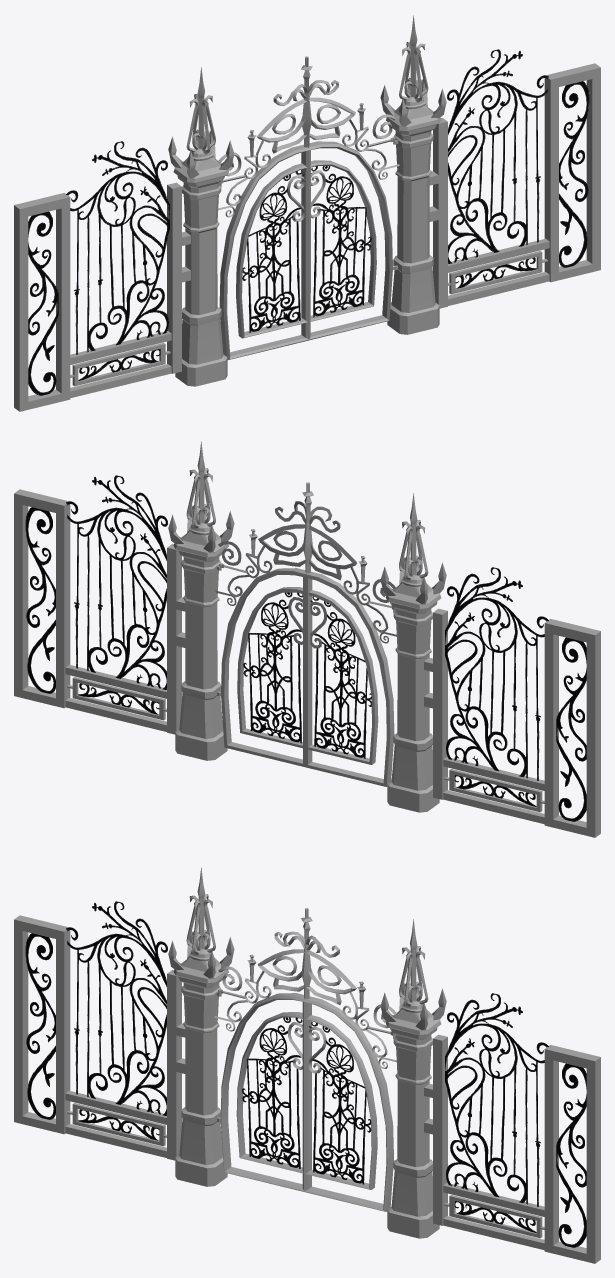
Rendered from Gate.fbx.
The picture shows the model from 3 angles, top to bottom: view 1: azimuth 30°, elevation 25°; view 2: azimuth 150°, elevation 25°; view 3: azimuth 330°, elevation 25°; orthographic projection.
Visible parts, largest first — view 1: Gate_Half, textures, Left_Gate, Right_Gate, right, left; view 2: Gate_Half, textures, Left_Gate, Right_Gate, right, left; view 3: Gate_Half, textures, Right_Gate, Left_Gate, right, left.
Part boxes in pixels (x1,y1,x2,y2): Gate_Half: [14, 15, 600, 411]; textures: [28, 49, 589, 395]; Left_Gate: [218, 56, 310, 359]; Right_Gate: [306, 56, 399, 340]; right: [311, 166, 371, 317]; left: [242, 170, 304, 332]; Gate_Half: [14, 441, 600, 837]; textures: [25, 475, 586, 821]; Left_Gate: [304, 482, 396, 786]; Right_Gate: [215, 482, 308, 767]; right: [243, 592, 302, 743]; left: [310, 596, 371, 758]; Gate_Half: [14, 867, 600, 1263]; textures: [25, 901, 586, 1247]; Right_Gate: [303, 908, 396, 1211]; Left_Gate: [214, 908, 307, 1191]; right: [309, 1022, 371, 1184]; left: [242, 1017, 302, 1168].
Bounding box in the file's own units: 1283 × 655 × 82.
2 materials, 1 textured.
